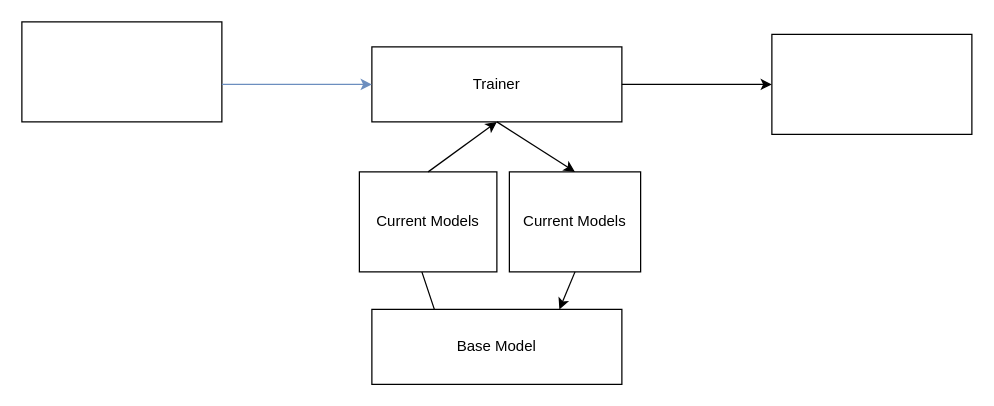
Image size: 994x406. Some labels were removed from this diagram. Each missing label, with the box of its shape:
Message from Input Handler from Training_Query containing the data: (21, 21, 222, 122)
Response containing information on the training sent to the output handler: (771, 33, 972, 134)
